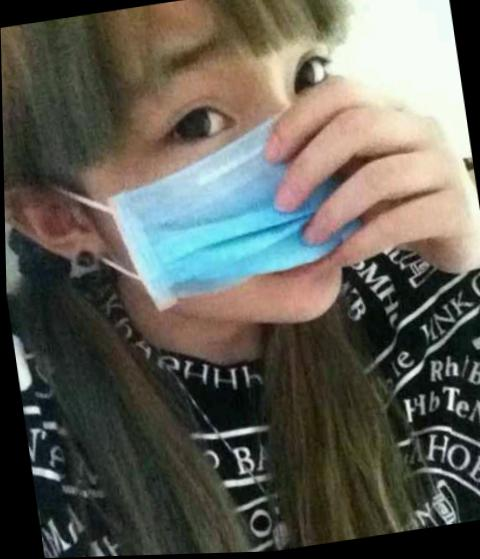WRONG: (81, 1, 382, 354)
